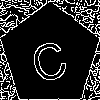C: (25, 30, 71, 85)
